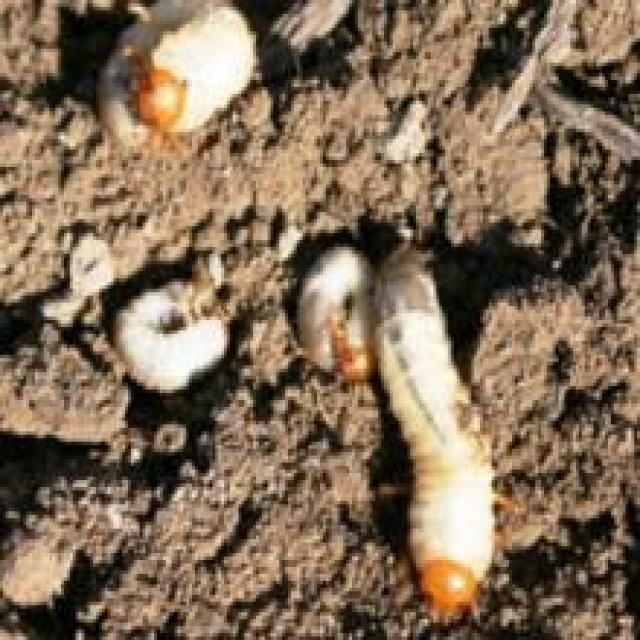Grub-Adult-: (367, 242, 509, 614), (92, 3, 266, 147), (98, 262, 223, 397), (281, 231, 380, 389)
